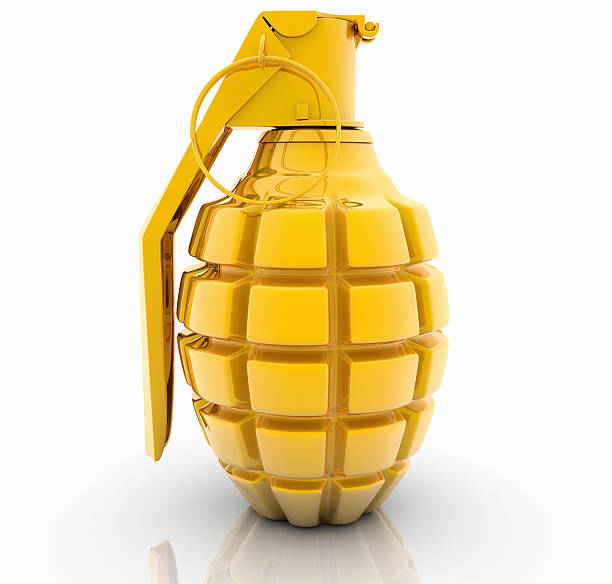e1: (138, 11, 448, 529)
